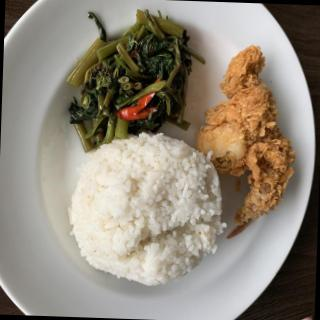Nasi: (70, 135, 225, 288)
